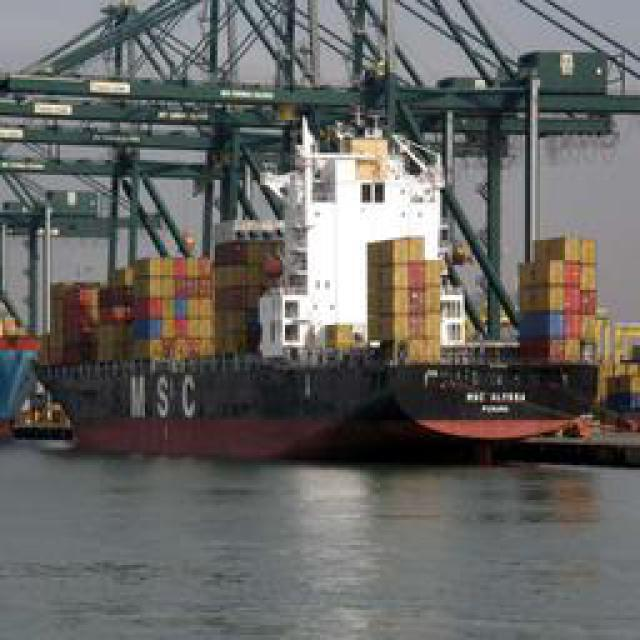Ship: (31, 109, 604, 473)
